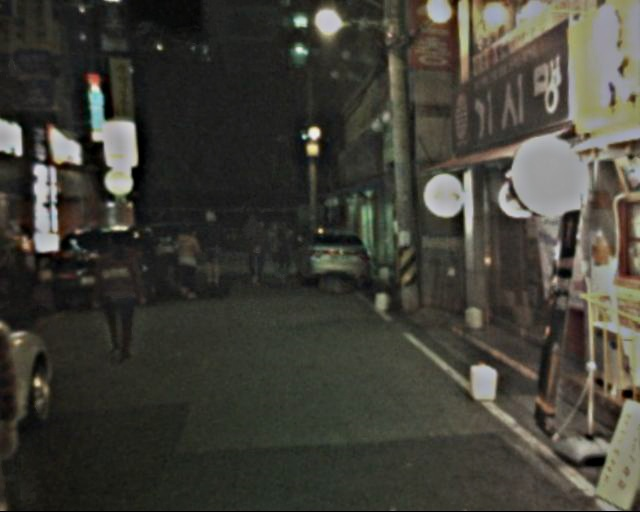person: (94, 231, 148, 363), (169, 222, 205, 306), (196, 205, 229, 289), (240, 212, 268, 292), (268, 221, 296, 297)
